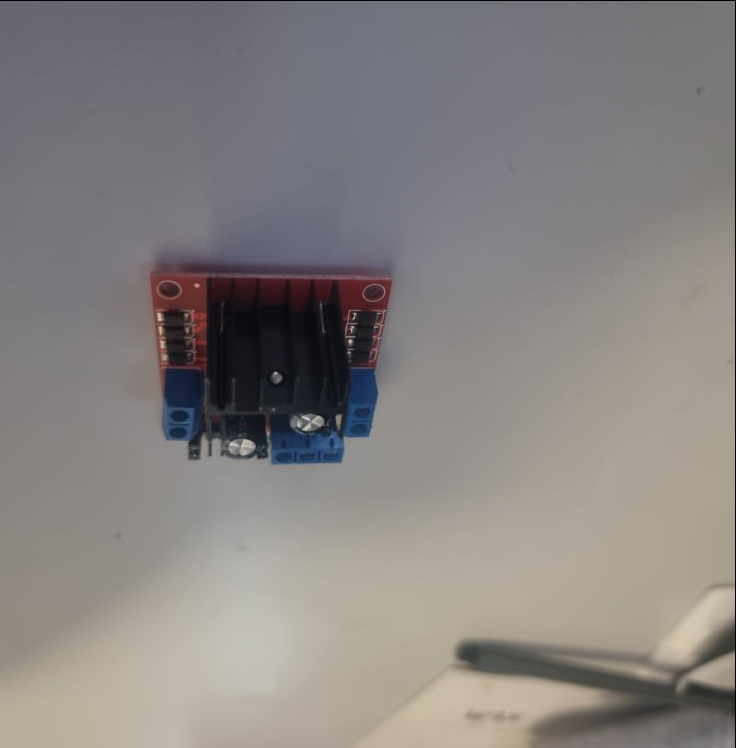MOTOR: (153, 269, 394, 468)
